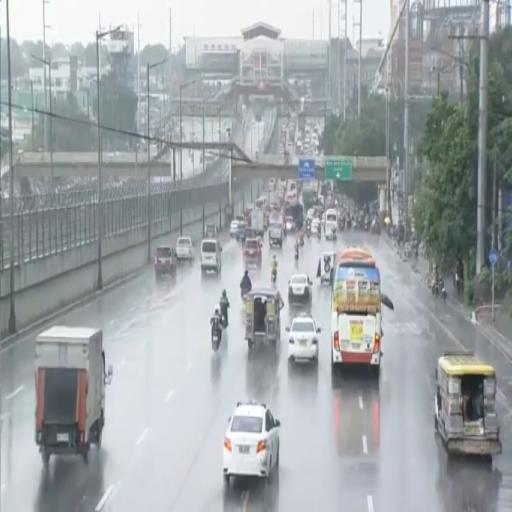bus: (332, 248, 381, 375)
car: (224, 402, 280, 484), (286, 314, 320, 363), (288, 274, 312, 305), (201, 238, 221, 274), (155, 246, 176, 278), (243, 238, 261, 265), (176, 236, 194, 262), (230, 220, 244, 237), (204, 224, 218, 238), (285, 216, 295, 232)
jeepney: (435, 351, 501, 455), (245, 287, 283, 349)
motorcycle: (432, 279, 446, 300), (212, 319, 221, 350), (454, 271, 462, 296), (439, 279, 446, 301), (371, 219, 380, 234), (241, 288, 250, 300), (271, 270, 276, 284), (298, 236, 304, 247), (364, 219, 369, 231), (295, 247, 299, 261), (306, 227, 311, 238), (332, 229, 336, 241), (318, 230, 321, 241)
truck: (36, 326, 112, 465), (251, 207, 264, 237)
